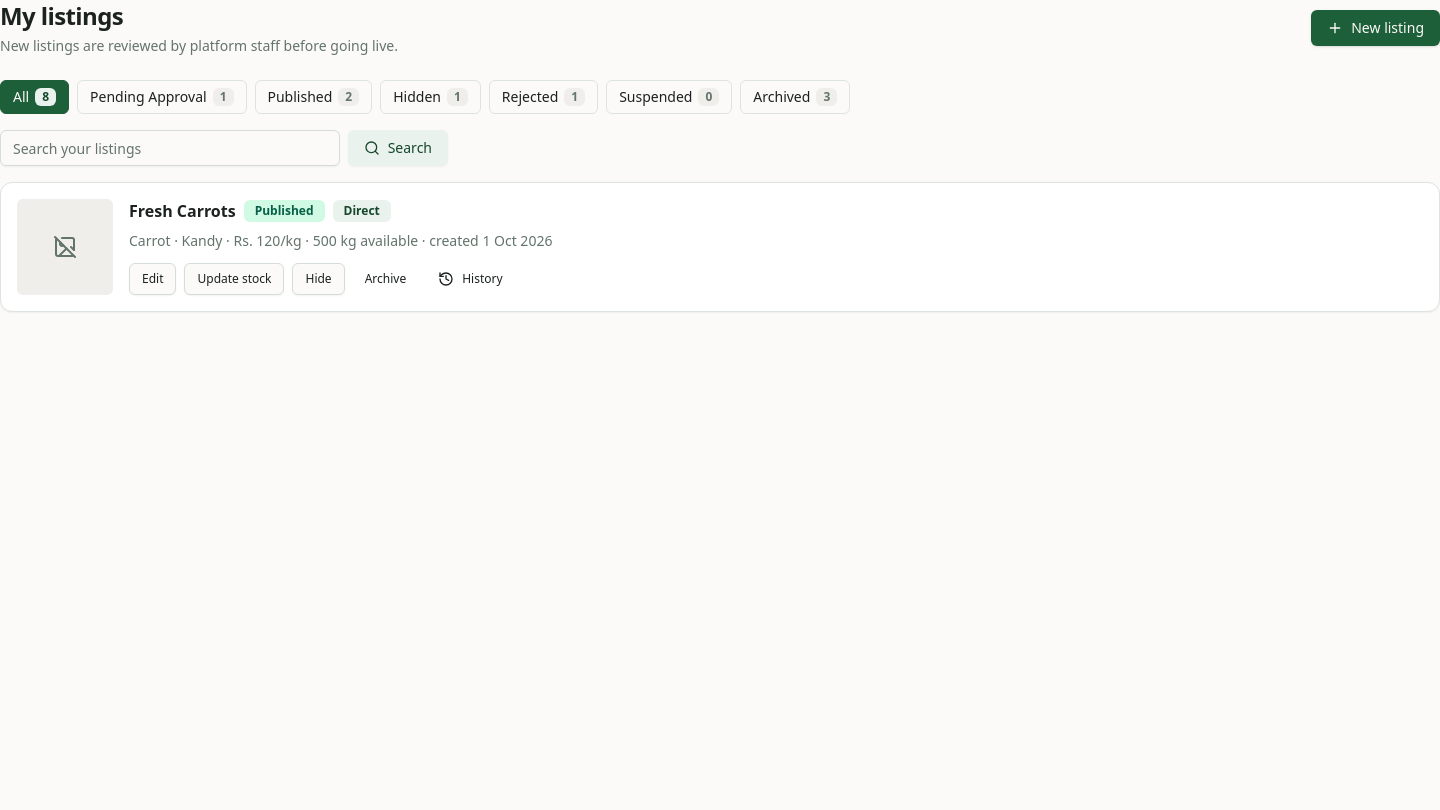
Test: MyListingsView: actions › opens the hide dialog and the archive dialog from their buttons
Click the button "Hide".
click(319, 279)  # box x1=292 y1=263 x2=345 y2=295
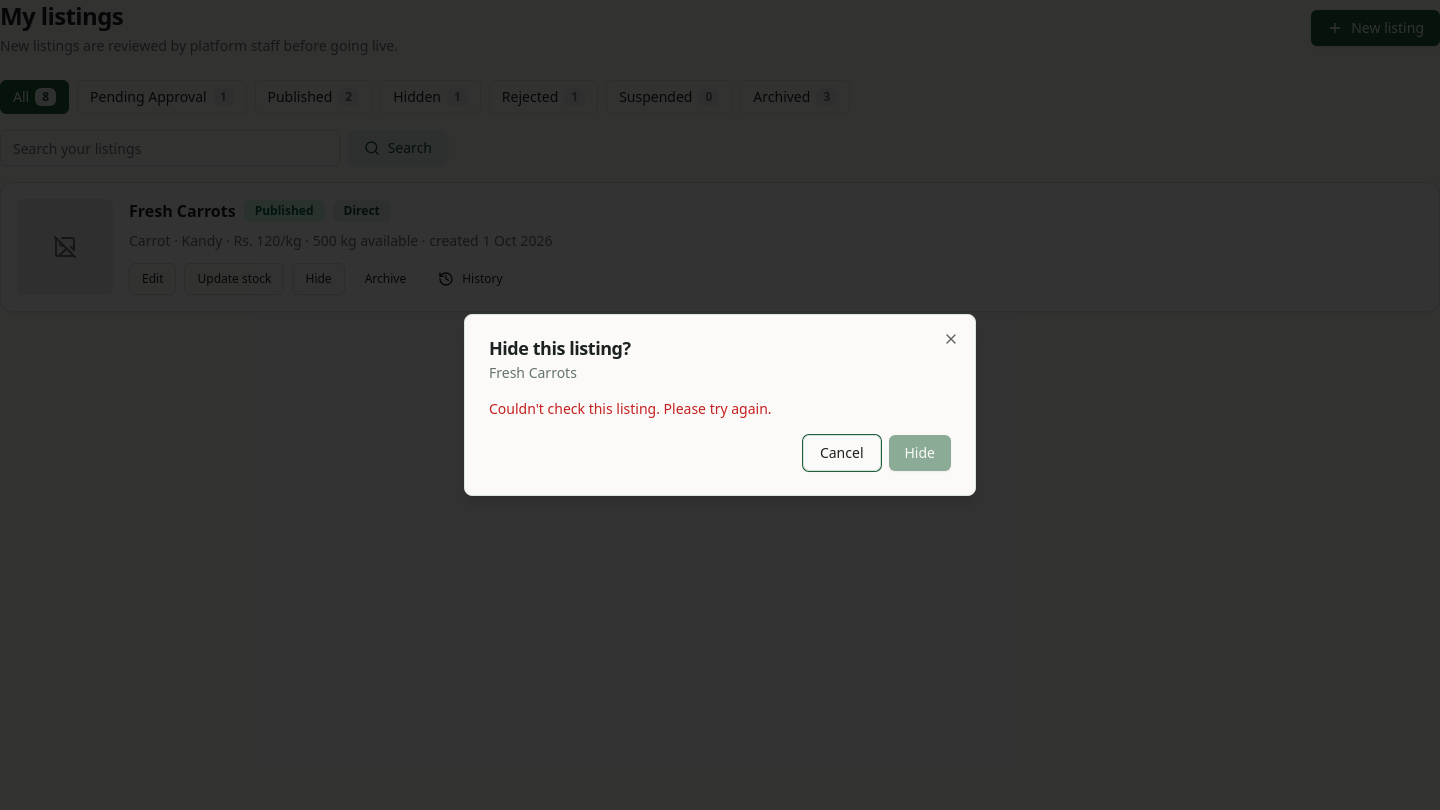
Result: the dialog shows "Hide this listing?" at x1=464 y1=314 x2=976 y2=496
